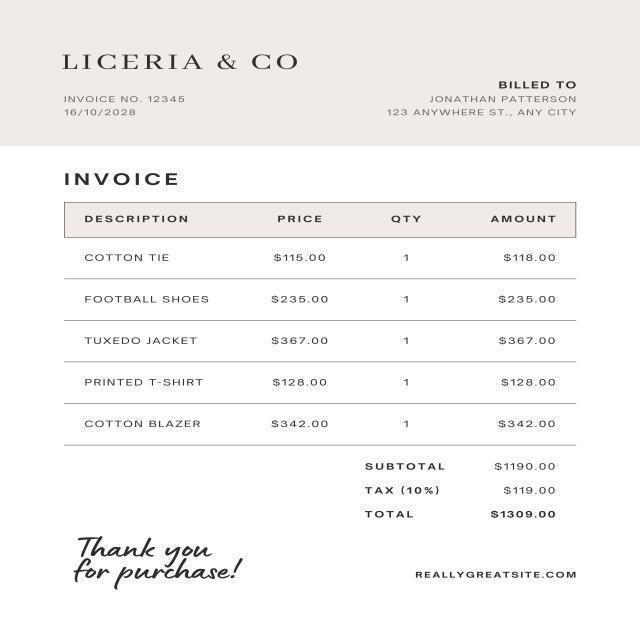paragraph: (352, 458, 587, 536), (78, 530, 257, 598), (381, 68, 592, 125), (55, 46, 317, 81), (61, 90, 208, 126), (413, 556, 573, 589), (62, 165, 196, 190)
table: (57, 199, 611, 446)
